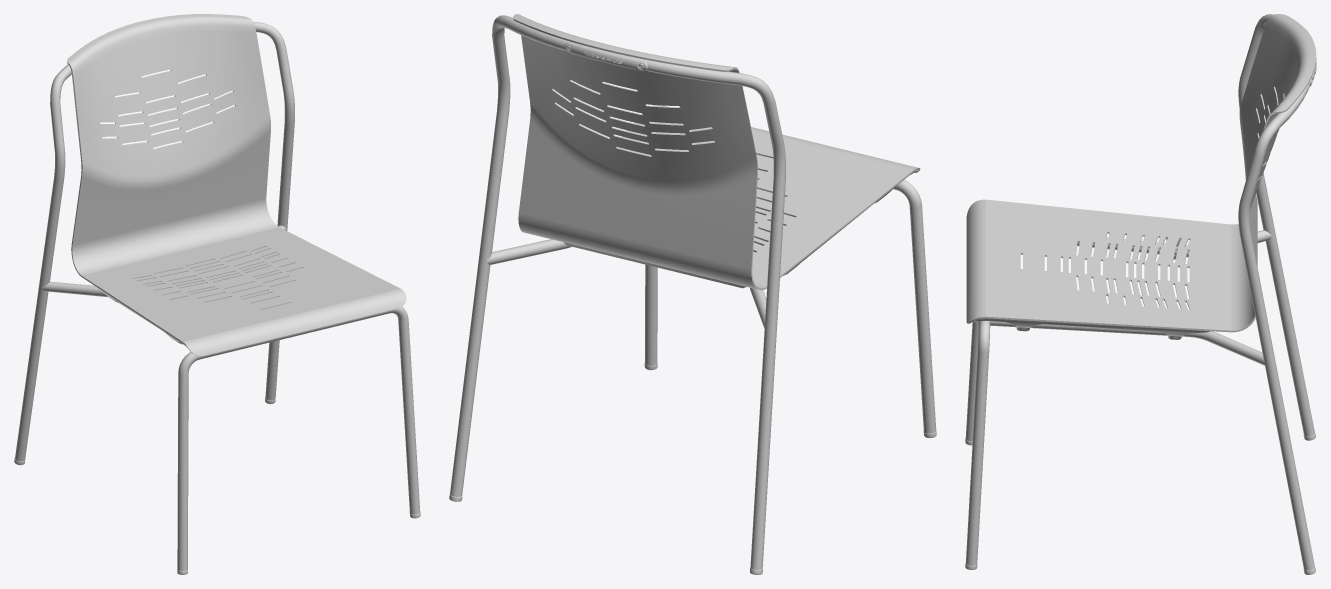
Rendered from Factor_Chair_Armless_Perforated.glb.
3 renders of one model, left to right at view 1: azimuth 30°, elevation 25°; view 2: azimuth 150°, elevation 25°; view 3: azimuth 270°, elevation 25°, orthographic. The views are drawn at different scales.
Visible parts, largest first — view 1: Factor_Chair_Armless_Perforated; view 2: Factor_Chair_Armless_Perforated; view 3: Factor_Chair_Armless_Perforated.
Boxes of the visible parts, x1,y1,x2,y2 form: Factor_Chair_Armless_Perforated: [14, 14, 420, 574]; Factor_Chair_Armless_Perforated: [449, 14, 936, 574]; Factor_Chair_Armless_Perforated: [965, 14, 1316, 574].
Size of the model in its own units: 0.5553 by 0.8365 by 0.5907.
1 material, 1 textured.
